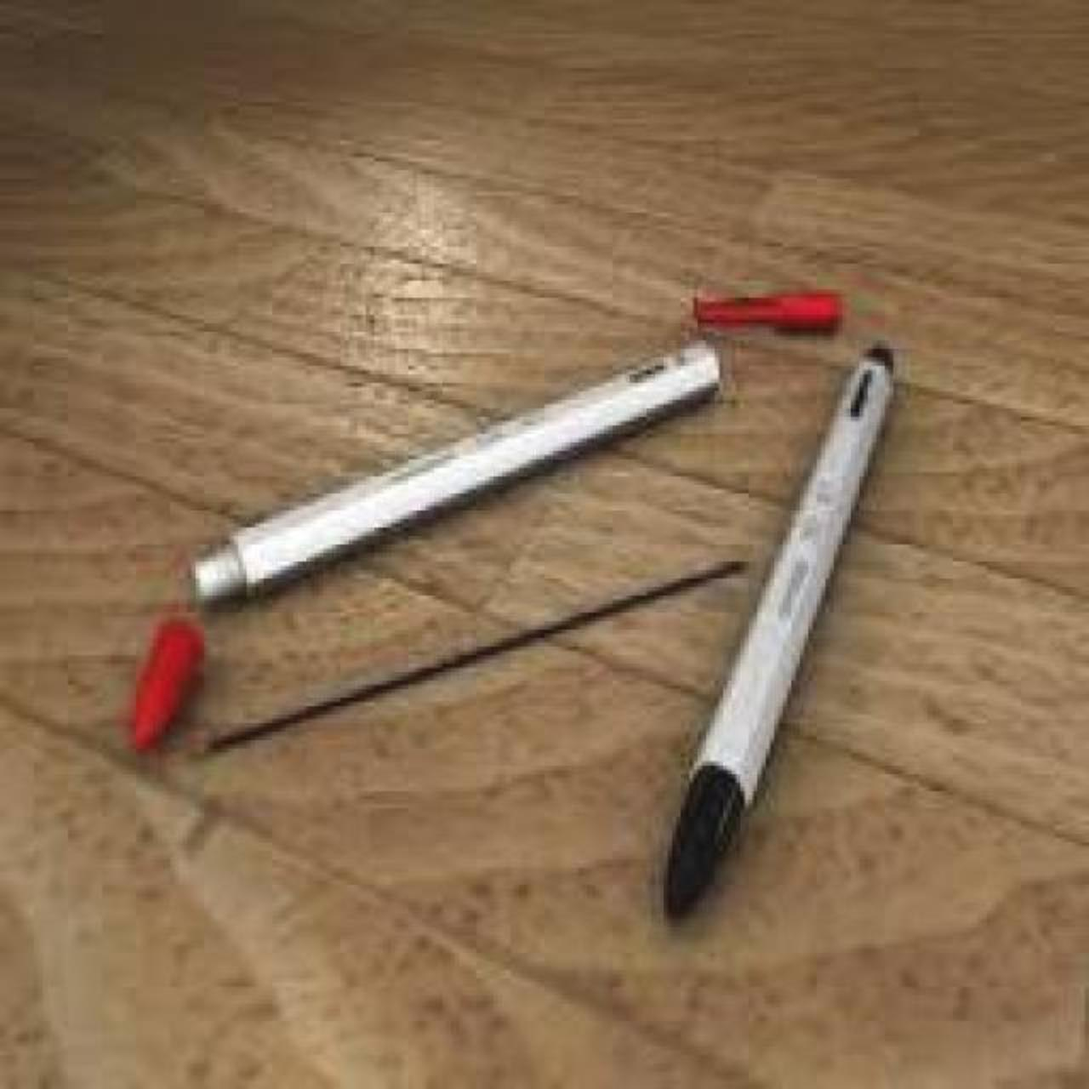pen: (660, 345, 904, 929)
